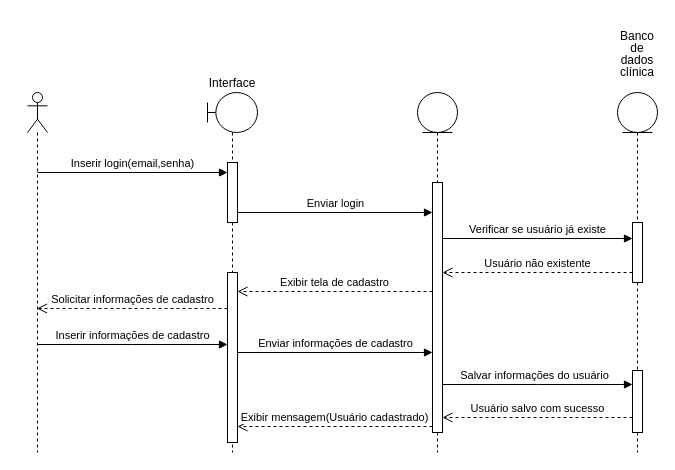
This 675x470 diagram has some shape labels left out. The shapes that lost their labels are listed below. From the top down, each one's box as (x1, y1, x2, y2) in pixels, then its label:
(26, 92, 48, 452): Usuário
(416, 92, 458, 452): Sistema
